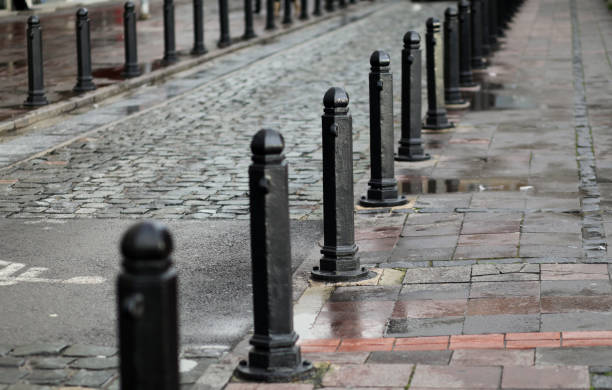bollard: (227, 120, 316, 385), (307, 75, 369, 288), (354, 46, 407, 214), (394, 31, 429, 167), (68, 4, 100, 95), (23, 11, 47, 112), (118, 2, 144, 79)
